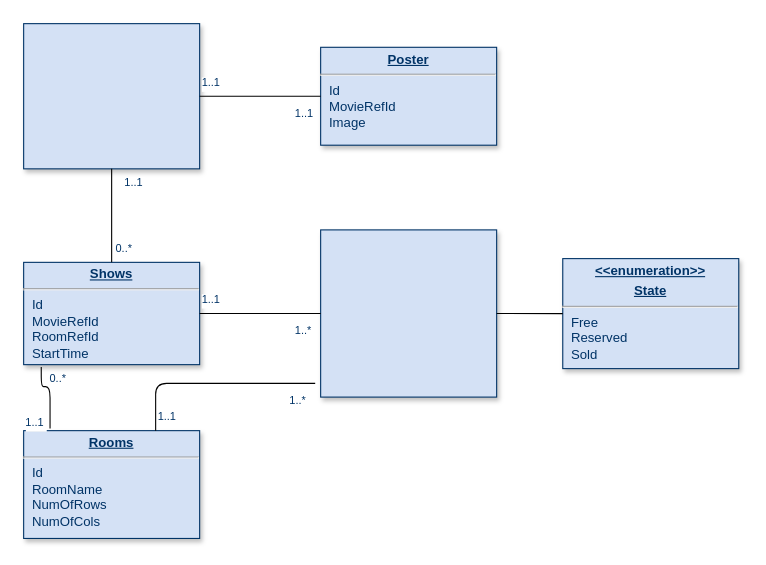
Some shapes in this 766 by 565 pixel diagram are drawn without their labels. Each missing label, with the centre of its shape:
Movies Id Title Director Description Length Modified: the point at 112,97
Seats Id ShowRefId RoomRefId Col Row State NameReserved PhoneNum: the point at 409,314
